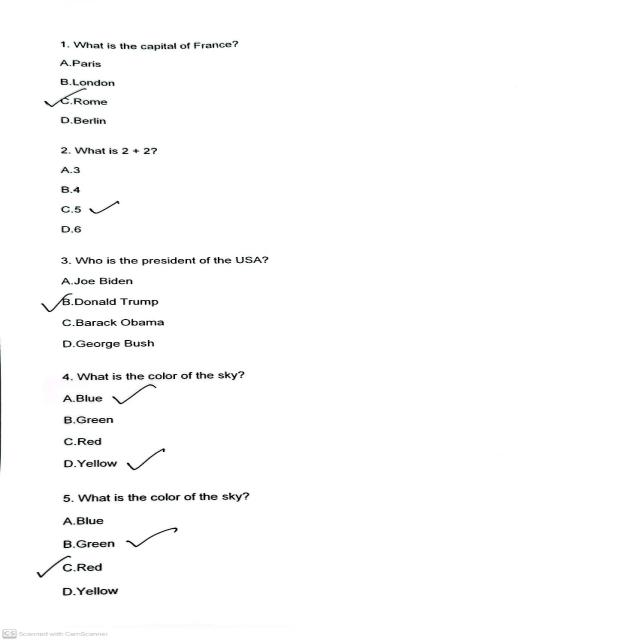Student_Ticked: (122, 523, 182, 550), (107, 381, 166, 407), (37, 80, 84, 112), (121, 446, 172, 473), (34, 553, 75, 580), (37, 287, 74, 314), (86, 198, 125, 215)
